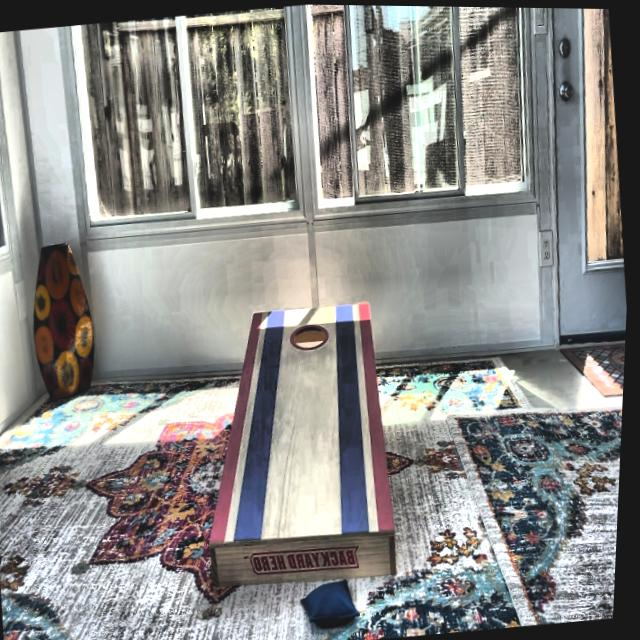blue-bean-bag: (302, 574, 367, 629)
board: (232, 299, 397, 542)
hole: (290, 319, 332, 351)
